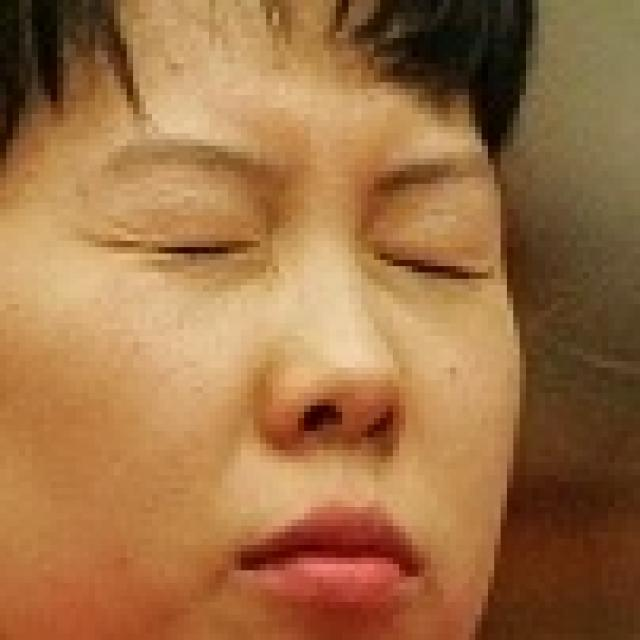Eyeclosed: (112, 210, 261, 279), (369, 235, 496, 296)
